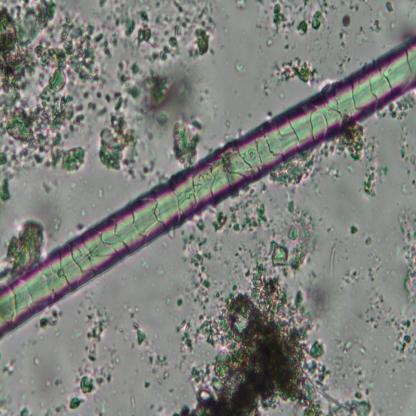Background material: (173, 280, 373, 416), (0, 0, 105, 176), (103, 60, 184, 176), (223, 196, 310, 283), (99, 2, 215, 62), (64, 293, 115, 414), (387, 206, 416, 370), (179, 219, 219, 318), (342, 254, 390, 331), (160, 62, 208, 122), (0, 217, 47, 275), (132, 322, 169, 388), (270, 0, 331, 37), (216, 194, 271, 235), (263, 58, 324, 92), (392, 119, 416, 196), (271, 150, 322, 186), (364, 135, 390, 200), (171, 115, 204, 166), (333, 126, 364, 163), (384, 92, 416, 121), (0, 388, 30, 416), (392, 16, 416, 46), (37, 305, 61, 332), (336, 29, 350, 70), (326, 240, 340, 278), (231, 54, 251, 76), (0, 175, 13, 203), (369, 7, 383, 32), (1, 358, 18, 378), (41, 178, 56, 194), (340, 13, 354, 28), (52, 215, 62, 233), (234, 0, 250, 10), (348, 222, 359, 236), (154, 266, 168, 277), (68, 180, 79, 190)
Hair: (0, 34, 416, 336)
